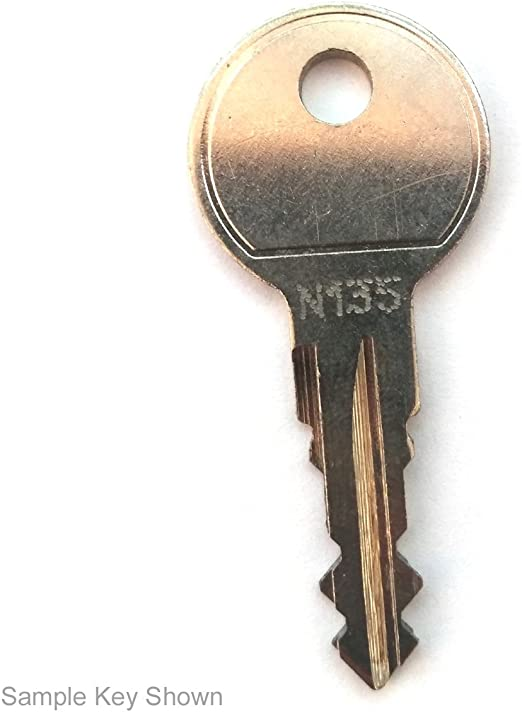key: (183, 6, 492, 692)
